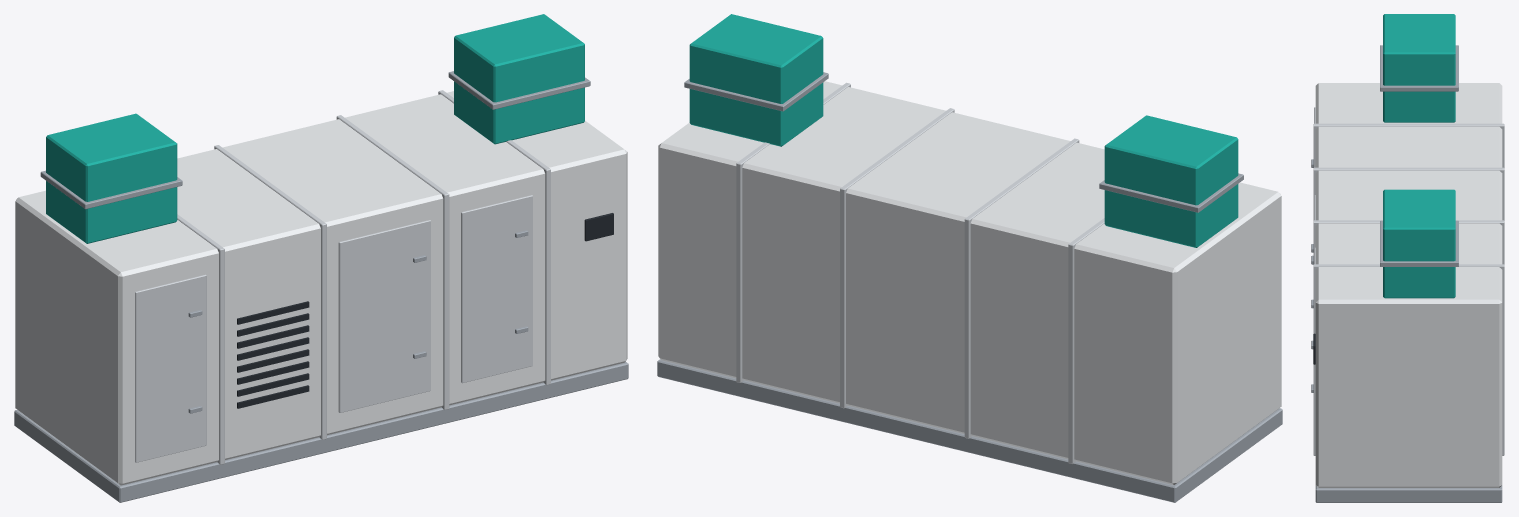
The model's file is air-handling-unit.glb.
The picture shows the model from 3 angles, left to right: view 1: azimuth 30°, elevation 25°; view 2: azimuth 150°, elevation 25°; view 3: azimuth 270°, elevation 25°; orthographic projection. The views are drawn at different scales.
Parts seen in each view (by area): view 1: air-handling-unit; view 2: air-handling-unit; view 3: air-handling-unit.
Boxes of the visible parts, x1,y1,x2,y2 form: air-handling-unit: (14, 14, 628, 502); air-handling-unit: (657, 14, 1282, 502); air-handling-unit: (1311, 14, 1504, 502).
Size of the model in its own units: 5 by 2.9 by 1.86.
